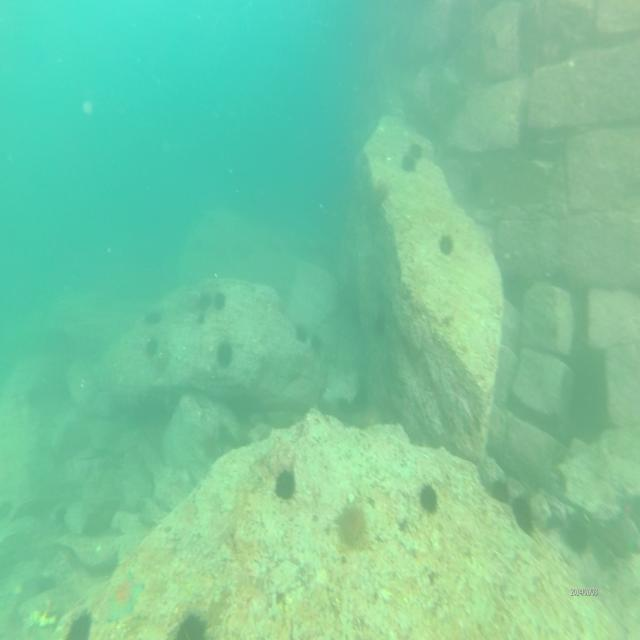echinus: (566, 505, 595, 557), (336, 501, 364, 550), (514, 492, 536, 540), (172, 612, 207, 640), (275, 465, 295, 505), (66, 611, 92, 640), (419, 485, 437, 514), (216, 342, 235, 368), (492, 476, 508, 504), (438, 228, 453, 256), (308, 332, 323, 352), (293, 325, 309, 343), (146, 333, 158, 357), (213, 290, 225, 309), (403, 154, 417, 170), (409, 141, 421, 159)
starfish: (107, 573, 143, 620)
